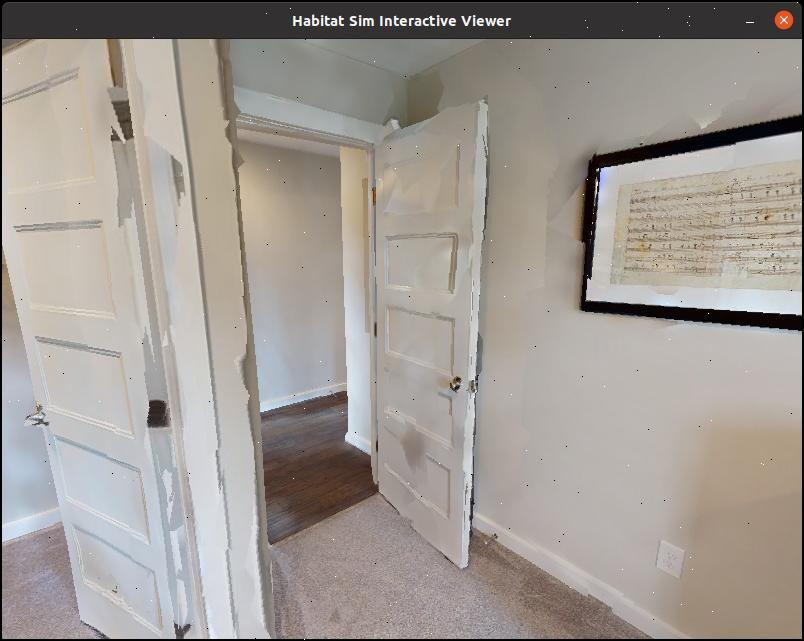door: (0, 39, 195, 640), (360, 106, 491, 555)
door-frame: (226, 119, 378, 528)
